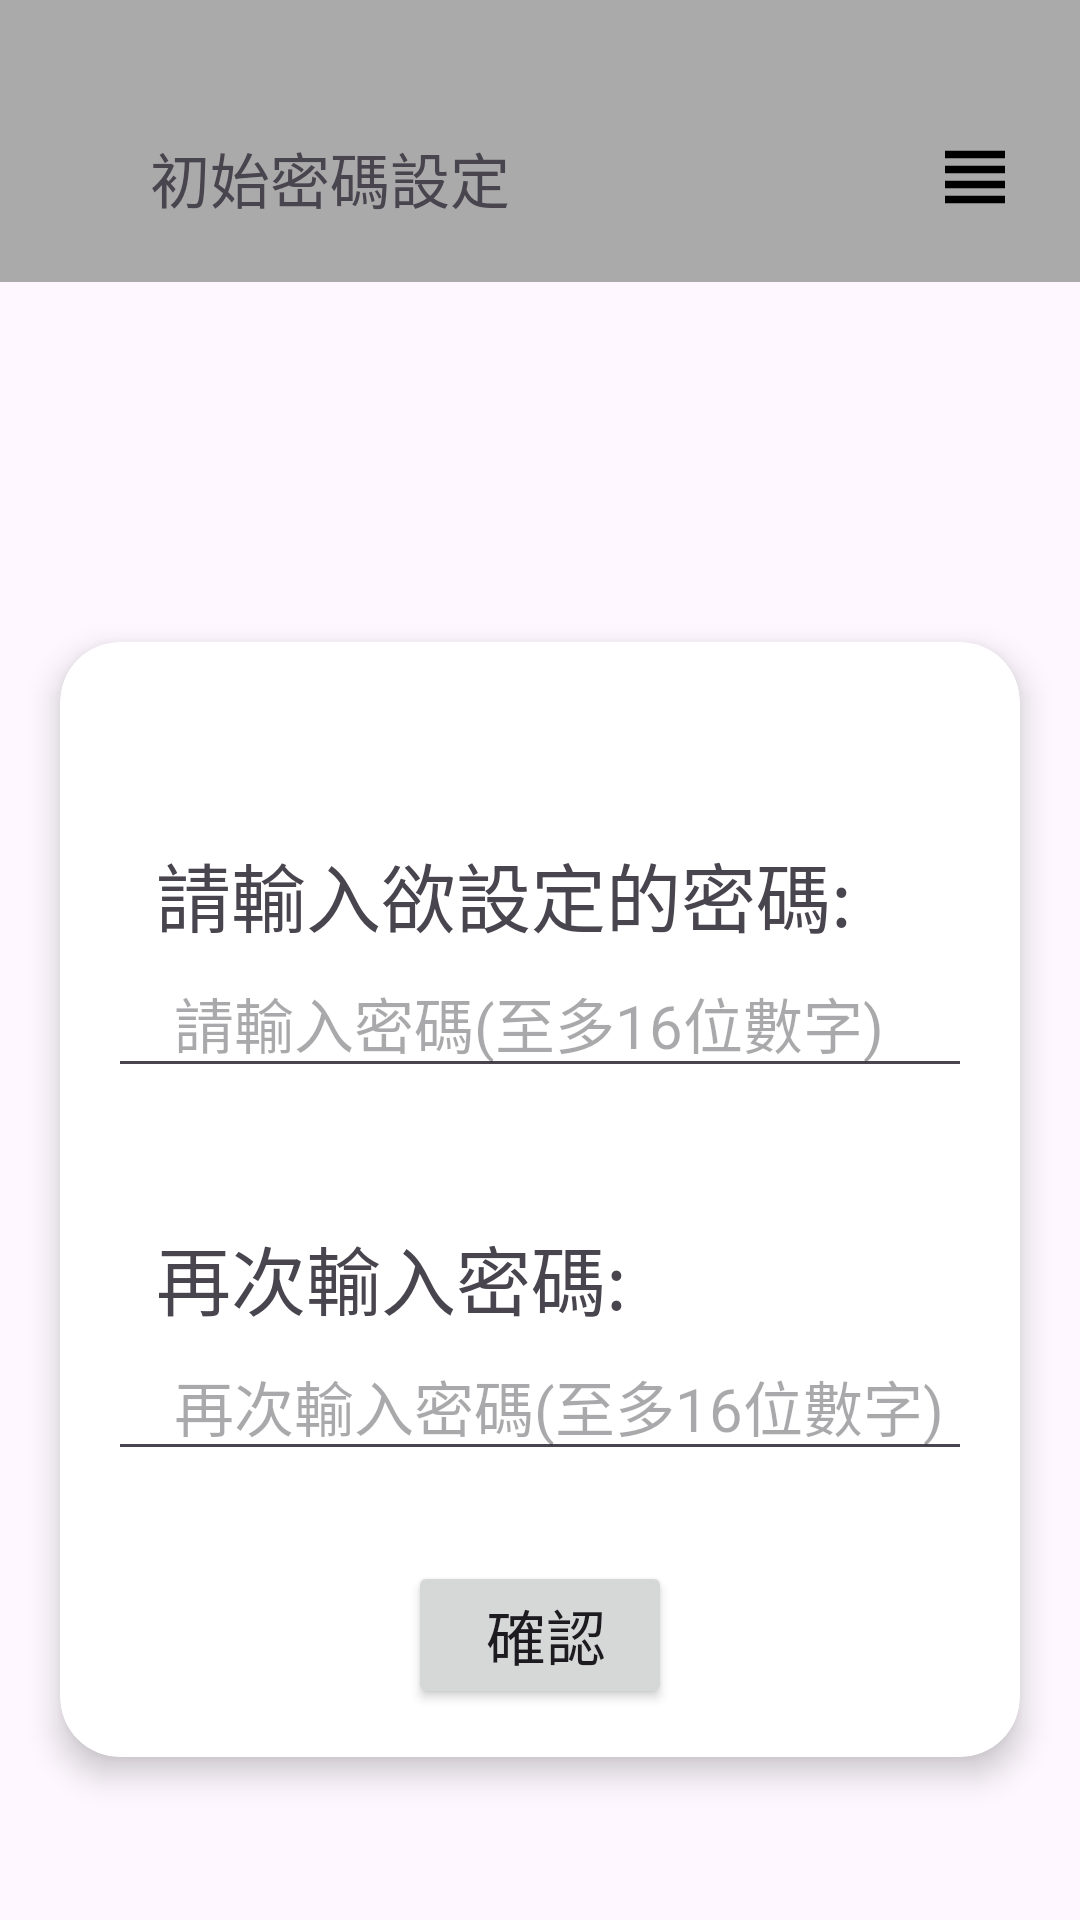

Icons on this 1080px×1920px Android screen, each with the point to tap as point (x, y):
其他: point (975, 177)
